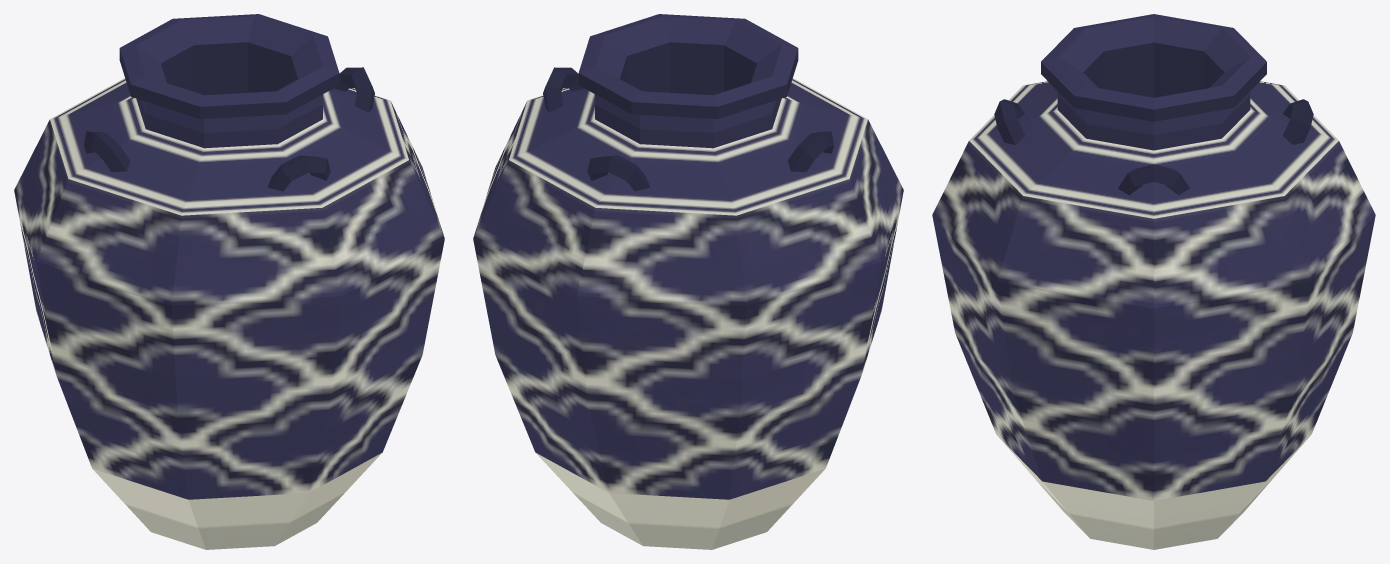
The model's file is samurai_SM_Prop_Vase_03.gltf.
3 renders of one model, left to right at view 1: azimuth 30°, elevation 25°; view 2: azimuth 150°, elevation 25°; view 3: azimuth 270°, elevation 25°, orthographic.
Visible parts, largest first — view 1: SM_Prop_Vase_03; view 2: SM_Prop_Vase_03; view 3: SM_Prop_Vase_03.
Boxes of the visible parts, left/top/right/bottom form: SM_Prop_Vase_03: left=14, top=14, right=444, bottom=549; SM_Prop_Vase_03: left=473, top=14, right=903, bottom=549; SM_Prop_Vase_03: left=932, top=14, right=1375, bottom=549.
Bounding box in the file's own units: 0.489 × 0.5531 × 0.489.
Materials: 1 (1 with a texture image).
